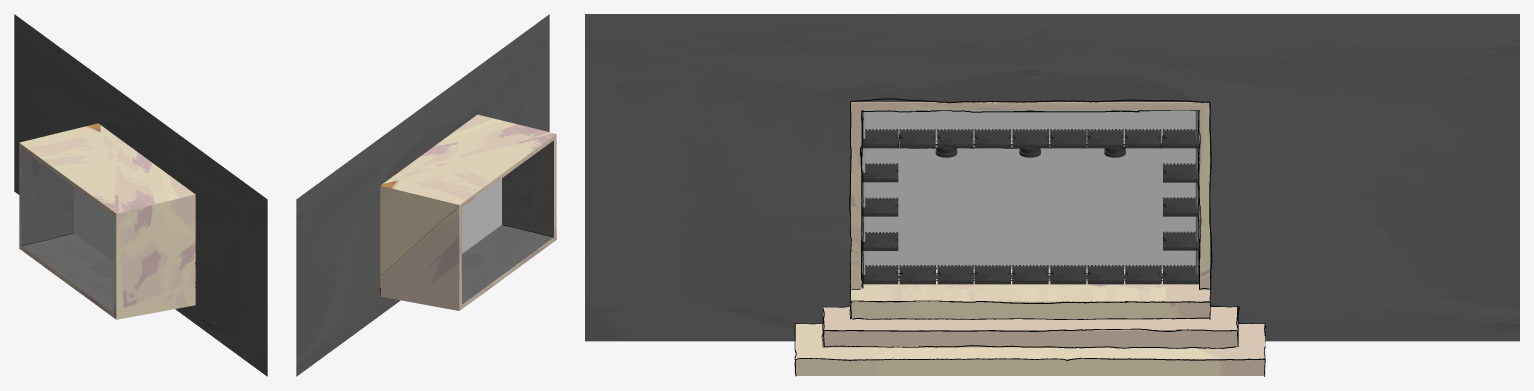
Rendered from sellarea.fbx.
3 views of the same model, side by side, from view 1: azimuth 30°, elevation 25°; view 2: azimuth 150°, elevation 25°; view 3: azimuth 270°, elevation 25° (orthographic). The views are drawn at different scales.
Parts seen in each view (by area): view 1: backwall, mainobj, glass; view 2: backwall, mainobj, glass; view 3: backwall, mainobj, glass, GP_Layer.
Boxes of the visible parts, bbox=[...] form: backwall: bbox=[14, 14, 267, 376]; mainobj: bbox=[19, 123, 195, 319]; glass: bbox=[74, 187, 113, 262]; backwall: bbox=[296, 14, 549, 376]; mainobj: bbox=[380, 114, 556, 310]; glass: bbox=[462, 178, 501, 253]; backwall: bbox=[585, 14, 1519, 341]; mainobj: bbox=[795, 102, 1265, 375]; glass: bbox=[865, 110, 1195, 269]; GP_Layer: bbox=[794, 98, 1265, 376].
Size of the model in its own units: 1352 by 1921 by 4974.
